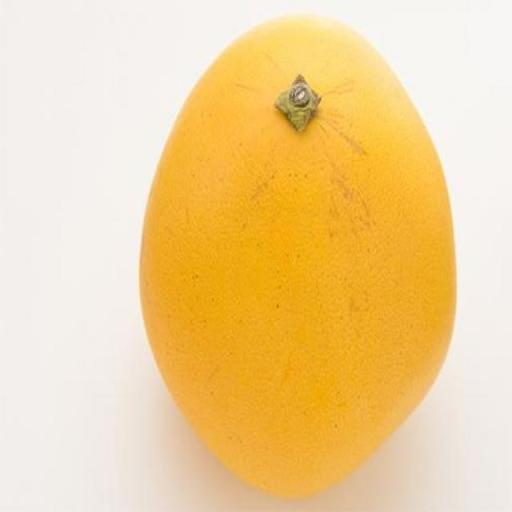fruit: (140, 17, 454, 495)
